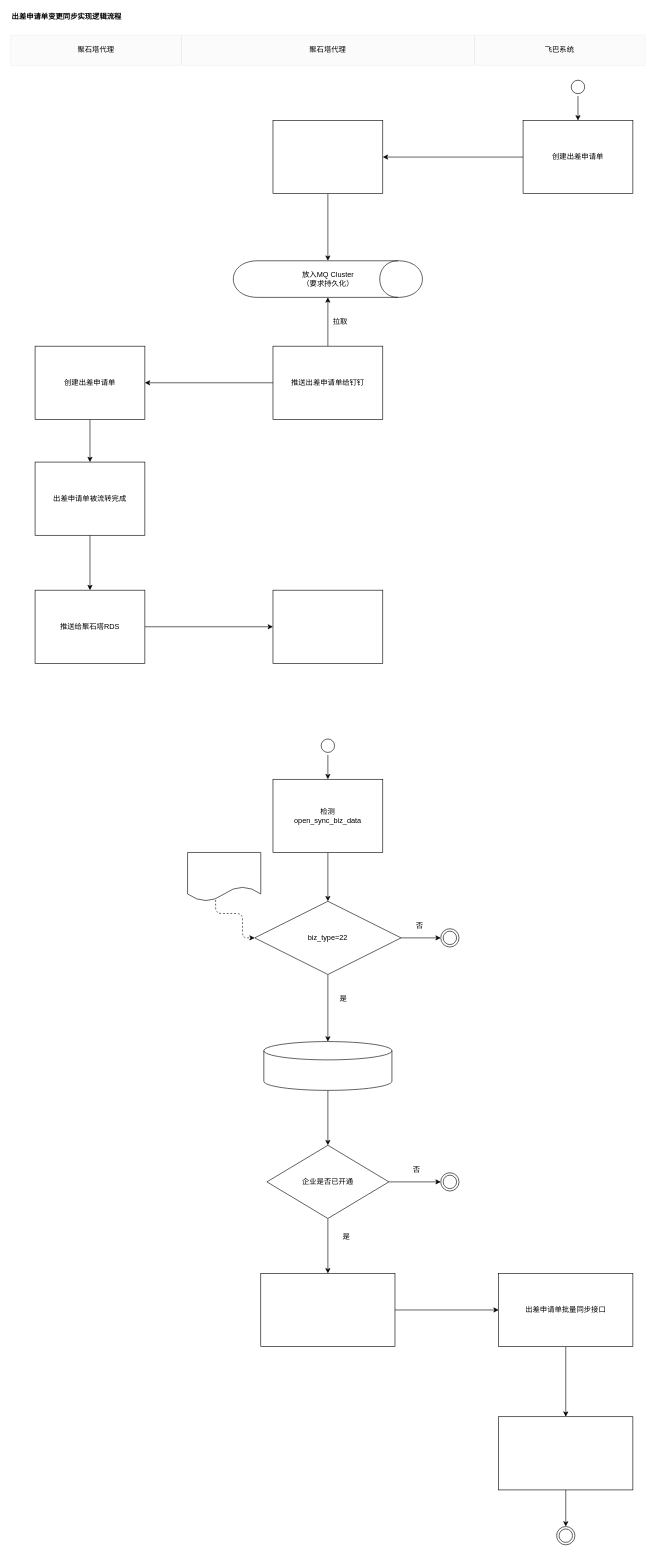
Image size: 656x1556. Some labels were removed from this diagram. The shapes that lost their labels are listed below. From the top down, each one's centre as x and y in pixels, then its label:
the point at 327,157: 同步出差申请单
the point at 327,626: 存入 open_sync_biz_data
the point at 224,876: ISV自定义审批
the point at 327,1065: Redis中取当前企业开通状态
the point at 327,1310: 推送出差申请单给飞巴
the point at 565,1453: 创建或同步出差申请单
